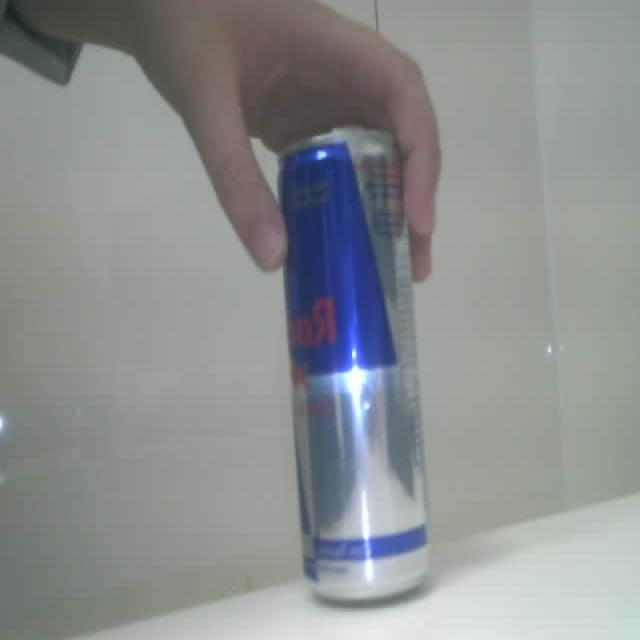redbull can: (279, 128, 427, 599)
